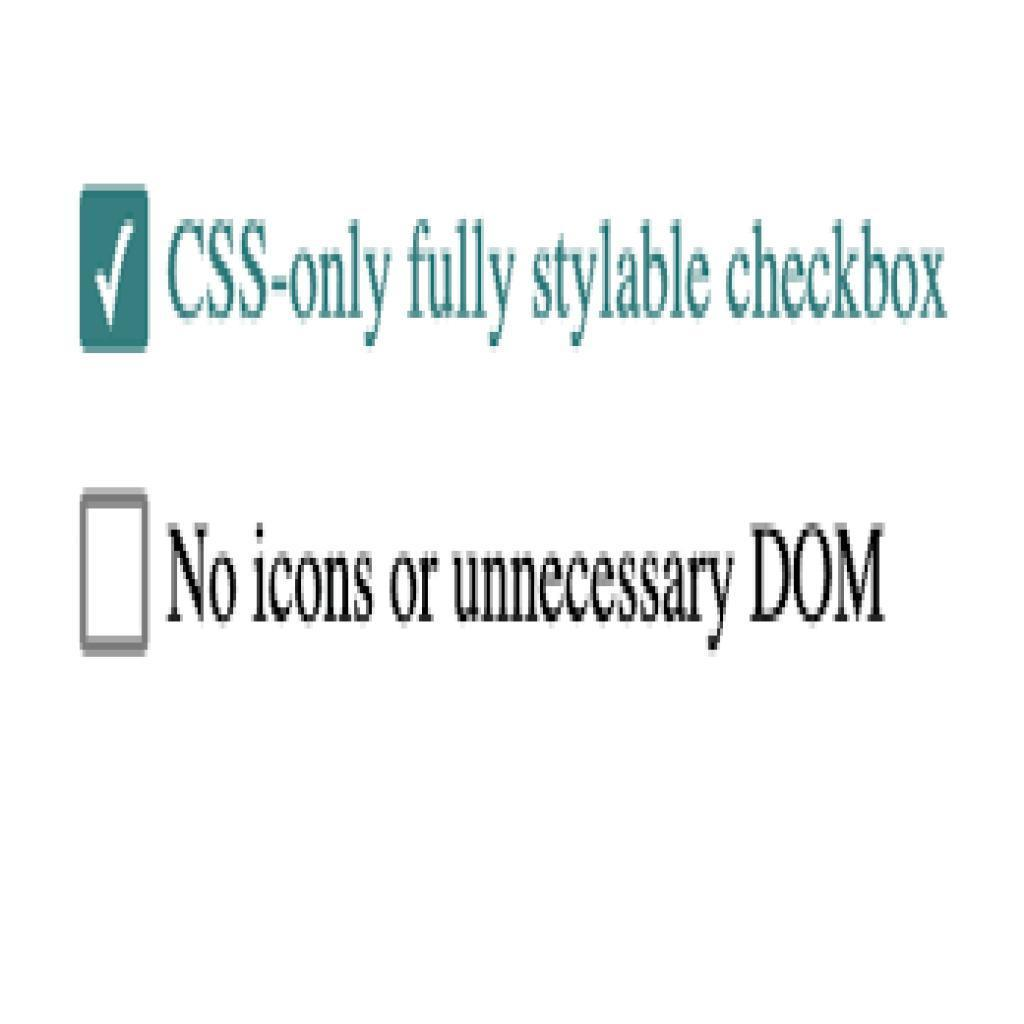checkbox: (83, 186, 151, 352), (85, 495, 149, 654)
label: (162, 212, 960, 356), (167, 517, 896, 655)
